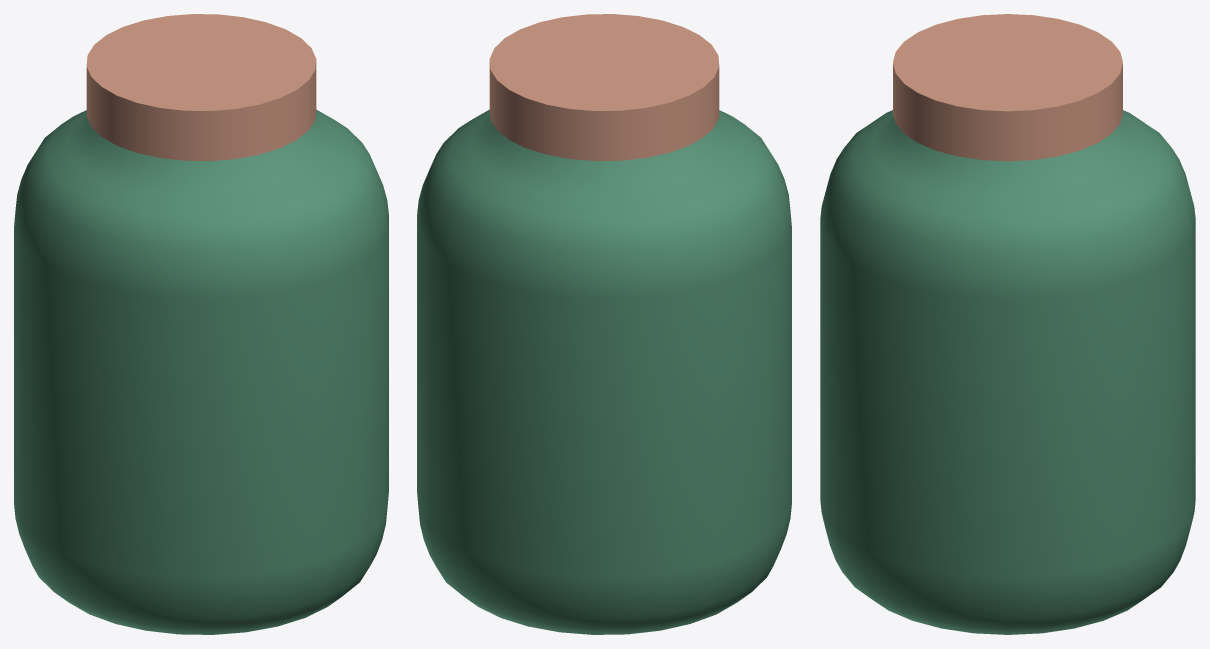
File: Jar B.fbx
3 renders of one model, left to right at view 1: azimuth 30°, elevation 25°; view 2: azimuth 150°, elevation 25°; view 3: azimuth 270°, elevation 25°, orthographic.
Parts seen in each view (by area): view 1: Jar.002, Jar.003; view 2: Jar.002, Jar.003; view 3: Jar.002, Jar.003.
Part boxes in pixels (bbox=[...]): Jar.002: bbox=[14, 109, 388, 634]; Jar.003: bbox=[86, 14, 316, 161]; Jar.002: bbox=[417, 109, 791, 634]; Jar.003: bbox=[489, 14, 719, 161]; Jar.002: bbox=[820, 110, 1195, 634]; Jar.003: bbox=[893, 14, 1122, 161].
Bounding box in the file's own units: 0.2554 × 0.386 × 0.2554.
